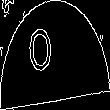O_S: (42, 28, 68, 82)
